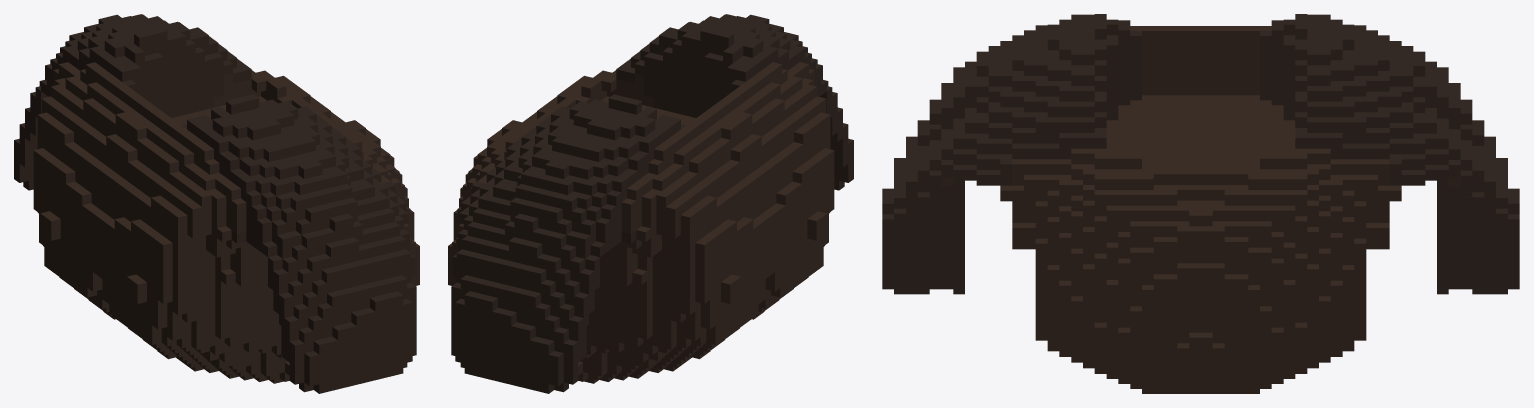
The model's file is Armor_Brigandine_M.obj.
3 views of the same model, side by side, from view 1: azimuth 30°, elevation 25°; view 2: azimuth 150°, elevation 25°; view 3: azimuth 270°, elevation 25° (orthographic). The views are drawn at different scales.
Parts seen in each view (by area): view 1: Armor_Brigandine_M; view 2: Armor_Brigandine_M; view 3: Armor_Brigandine_M.
Part boxes in pixels (<box>): Armor_Brigandine_M: <box>14,14,419,393</box>; Armor_Brigandine_M: <box>448,14,853,393</box>; Armor_Brigandine_M: <box>882,14,1519,393</box>.
Size of the model in its own units: 32 by 29 by 54.
